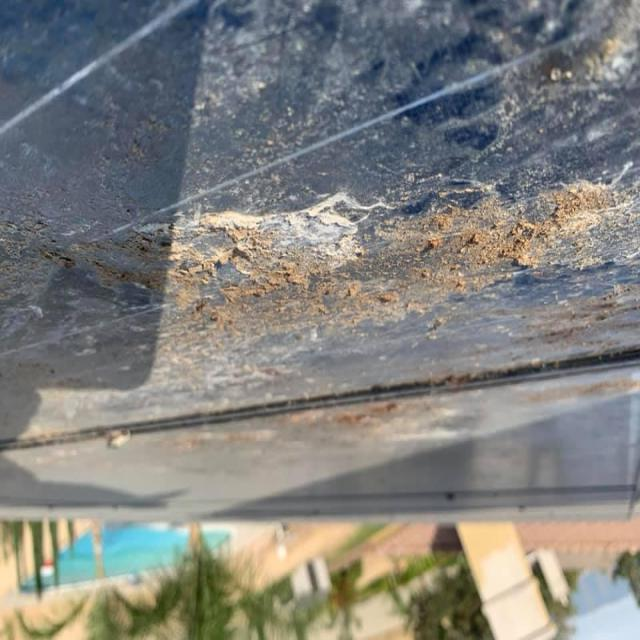soiled: (0, 0, 620, 447)
